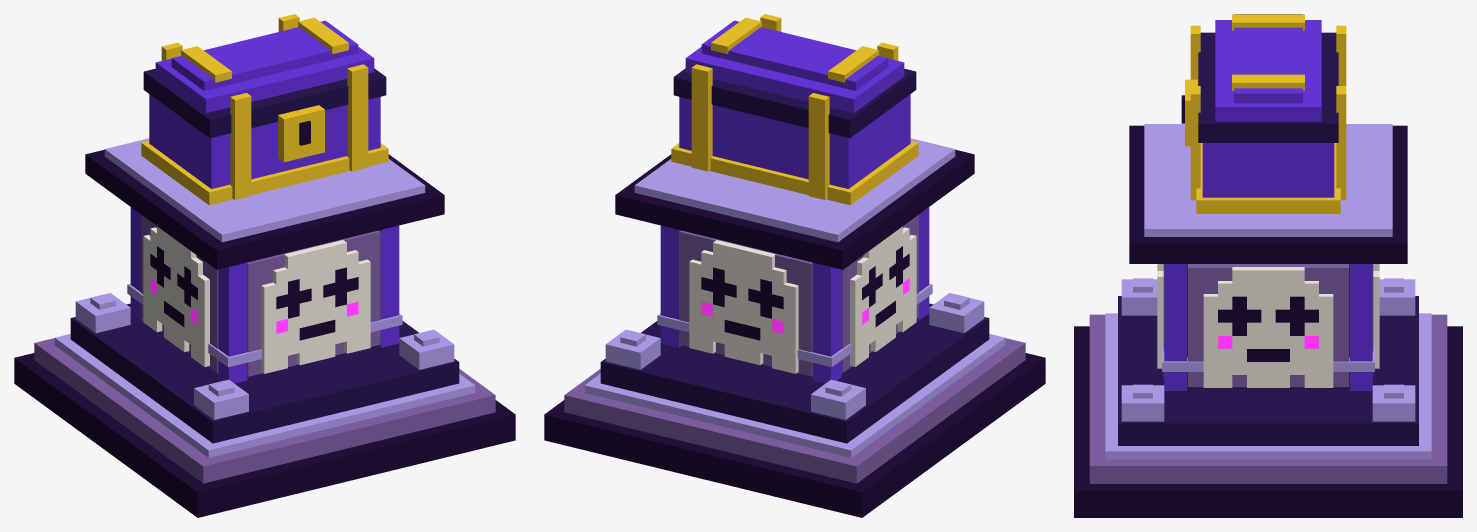
The model's file is chest-tier-1.glb.
3 renders of one model, left to right at view 1: azimuth 30°, elevation 25°; view 2: azimuth 150°, elevation 25°; view 3: azimuth 270°, elevation 25°, orthographic. The views are drawn at different scales.
Visible parts, largest first — view 1: base-ink, base-lavender, base-deep, base-stone, crown-purple, base-cream, crown-gold, base-purple, crown-deep; view 2: base-ink, base-lavender, crown-purple, base-deep, base-stone, base-cream, crown-gold, base-purple, crown-deep; view 3: base-ink, base-lavender, base-deep, base-stone, crown-purple, base-cream, crown-gold, crown-deep, base-purple.
Part boxes in pixels (x1,y1,x2,y2): base-ink: [14, 149, 515, 517]; base-lavender: [54, 138, 475, 457]; base-deep: [70, 303, 459, 443]; base-stone: [34, 214, 495, 483]; crown-purple: [149, 20, 380, 188]; base-cream: [143, 226, 370, 373]; crown-gold: [141, 14, 388, 205]; base-purple: [130, 207, 399, 383]; crown-deep: [143, 68, 386, 138]; base-ink: [544, 149, 1045, 517]; base-lavender: [584, 138, 1005, 457]; crown-purple: [679, 20, 910, 188]; base-deep: [600, 303, 989, 443]; base-stone: [564, 214, 1025, 483]; base-cream: [689, 226, 916, 373]; crown-gold: [671, 14, 918, 205]; base-purple: [660, 207, 929, 383]; crown-deep: [673, 68, 916, 138]; base-ink: [1074, 125, 1462, 517]; base-lavender: [1105, 124, 1431, 459]; base-deep: [1118, 264, 1418, 445]; base-stone: [1089, 264, 1447, 483]; crown-purple: [1202, 14, 1334, 197]; base-cream: [1157, 264, 1379, 387]; crown-gold: [1185, 14, 1346, 213]; crown-deep: [1198, 32, 1338, 142]; base-purple: [1164, 264, 1372, 390].
Bounding box in the file's own units: 3.1 × 3.4 × 3.1.
